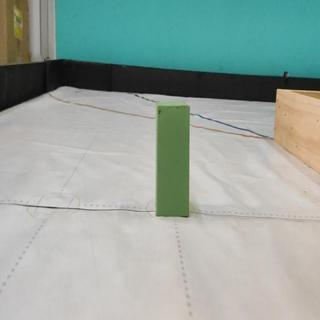greenbox: (153, 101, 194, 217)
